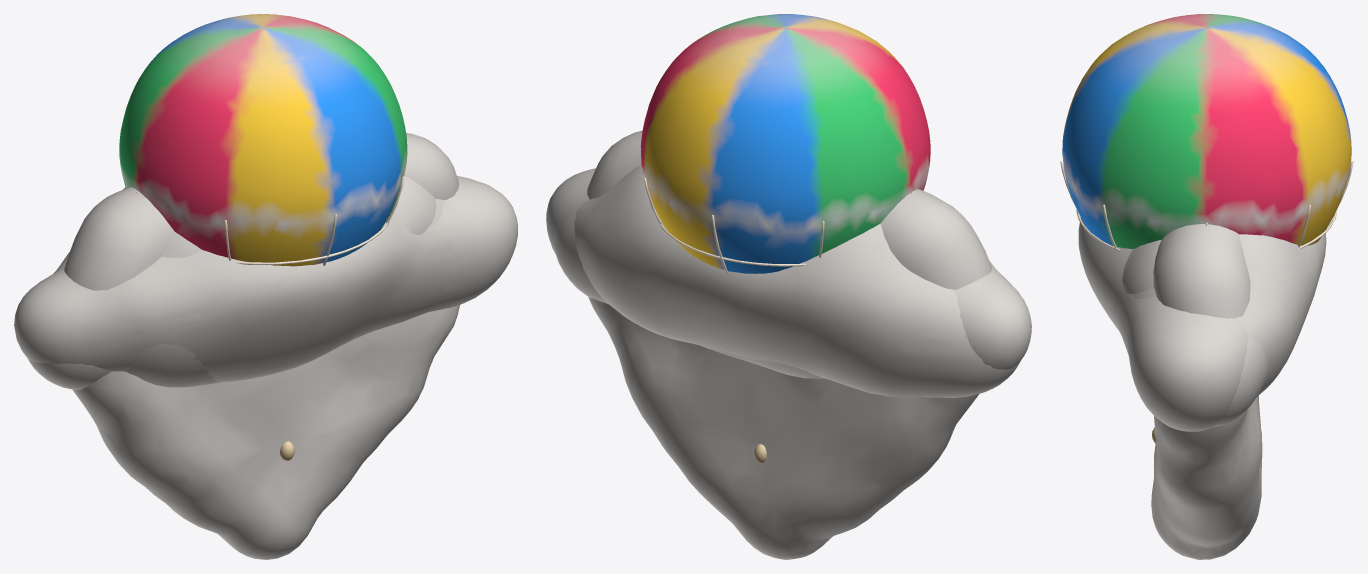
File: sky.lite.glb
3 renders of one model, left to right at view 1: azimuth 30°, elevation 25°; view 2: azimuth 150°, elevation 25°; view 3: azimuth 270°, elevation 25°, orthographic.
Parts seen in each view (by area): view 1: BalloonA, HeartCloud, Cloud2, Cloud0, Cloud1; view 2: BalloonA, HeartCloud, Cloud0, Cloud2, Cloud1; view 3: BalloonA, HeartCloud, Cloud2, Cloud0, Cloud1.
Part boxes in pixels (box(x1,y1,x2,y2)): BalloonA: box(119, 14, 407, 460); HeartCloud: box(64, 133, 459, 559); Cloud2: box(14, 176, 517, 382); Cloud0: box(28, 176, 436, 389); Cloud1: box(126, 199, 444, 387); BalloonA: box(640, 14, 930, 463); HeartCloud: box(587, 131, 991, 559); Cloud0: box(574, 164, 1020, 397); Cloud2: box(546, 168, 1031, 369); Cloud1: box(553, 214, 823, 378); BalloonA: box(1060, 14, 1353, 443); HeartCloud: box(1151, 224, 1262, 559); Cloud2: box(1078, 217, 1248, 431); Cloud0: box(1122, 233, 1326, 396); Cloud1: box(1131, 249, 1268, 427).
Bounding box in the file's own units: 3.89 × 4.06 × 2.04.
